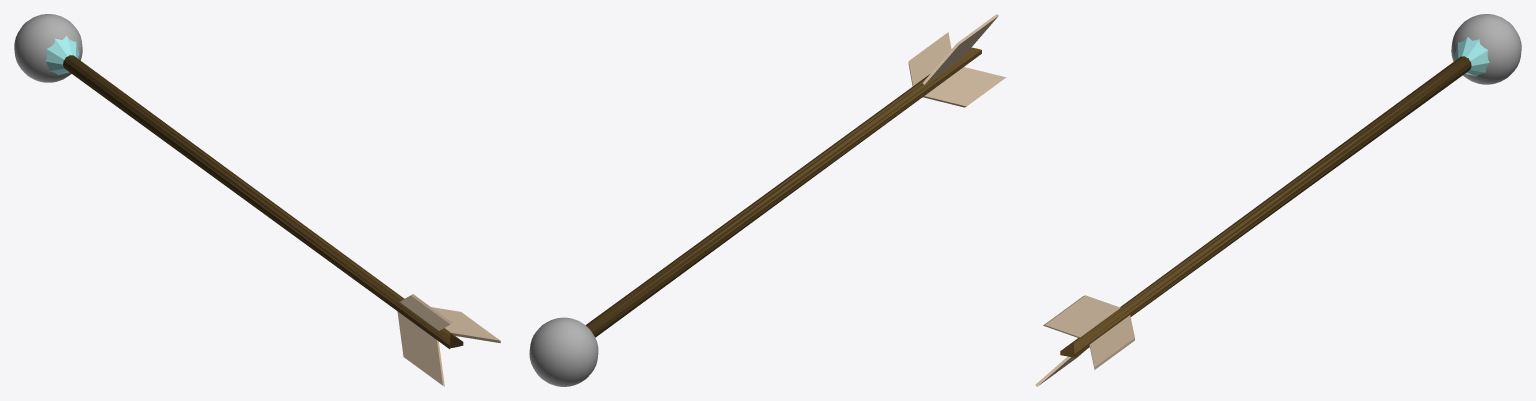
The model's file is Teleportation Arrow_V2.fbx.
3 views of the same model, side by side, from view 1: azimuth 30°, elevation 25°; view 2: azimuth 150°, elevation 25°; view 3: azimuth 330°, elevation 25° (orthographic). The views are drawn at different scales.
Parts seen in each view (by area): view 1: polySurface2, polySurface1; view 2: polySurface2, polySurface1; view 3: polySurface2, polySurface1.
Boxes of the visible parts, x1,y1,x2,y2 form: polySurface2: (45,36,500,386); polySurface1: (14,14,82,82); polySurface2: (586,14,1005,337); polySurface1: (529,317,598,386); polySurface2: (1035,36,1489,386); polySurface1: (1451,14,1521,84).
Size of the model in its own units: 0.0649 by 0.0618 by 0.748.
